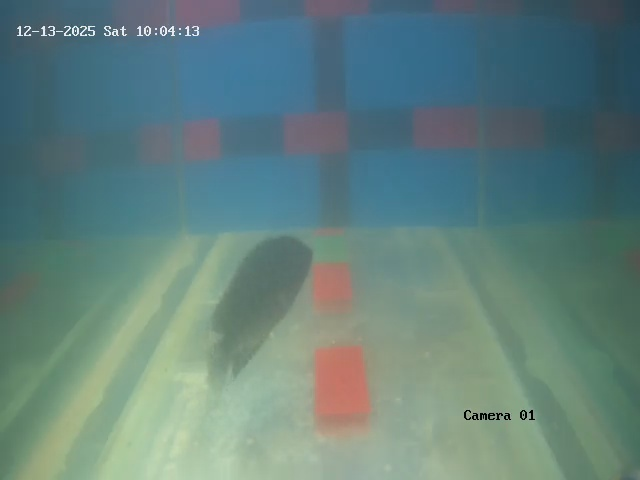fish: (211, 228, 317, 373)
